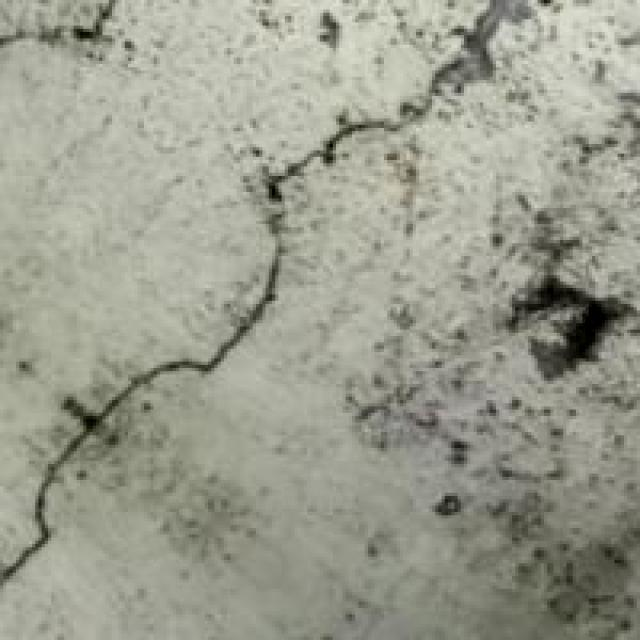crack: (0, 0, 542, 602)
